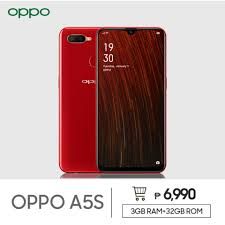oppo: (58, 24, 166, 177)
